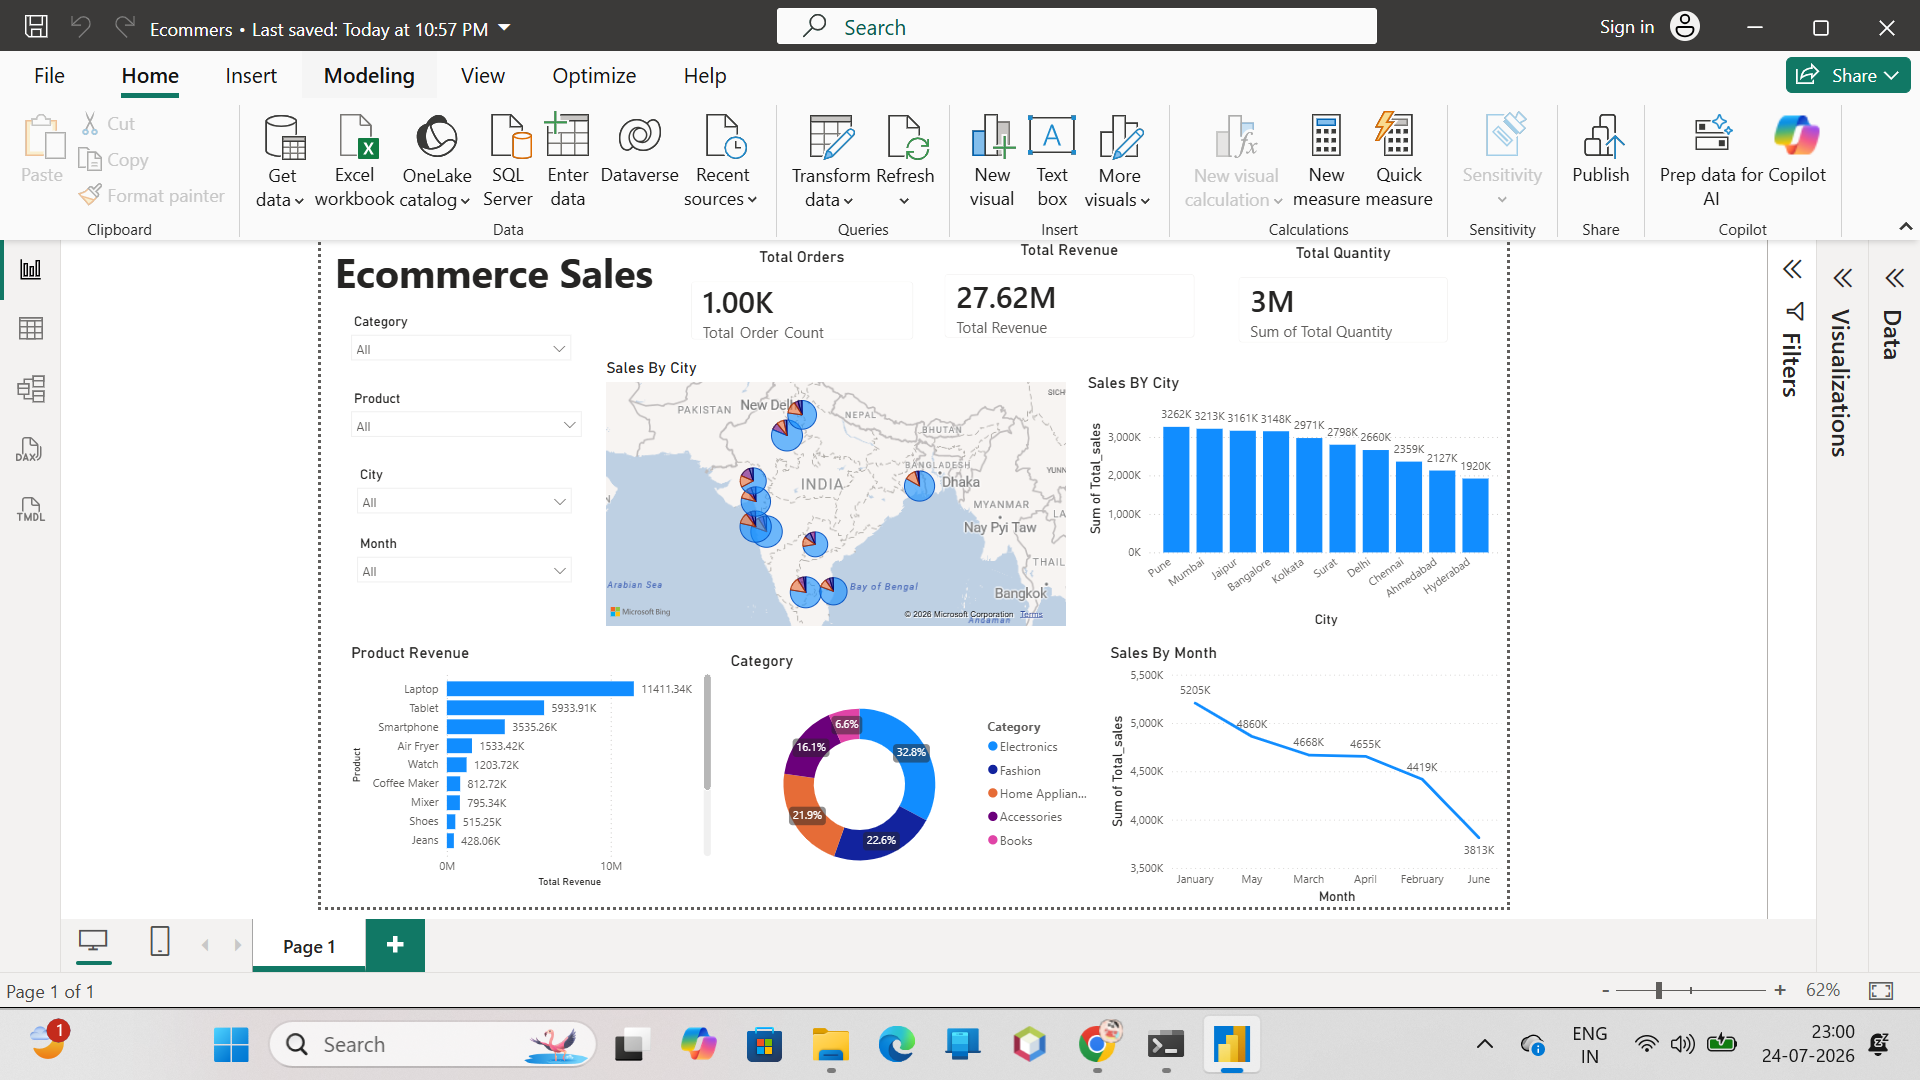

The page's visual inventory and layout, read from the dashboard file:
{"tool":"powerbi","page":{"name":"Page 1","canvas":[1280,720],"ordinal":0},"visuals":[{"type":"textbox","box":[9.4,0,372.3,73.7],"z":0},{"type":"barChart","title":"Product Revenue","fields":{"Category":["ecommers clean_sales.Product"],"Y":["ecommers clean_sales.Total Revenue"]},"box":[27.5,435.6,398.3,267.2],"z":1000},{"type":"columnChart","title":"Sales BY City","fields":{"Category":["ecommers clean_sales.City"],"Y":["Sum(ecommers clean_sales.Total_sales)"]},"box":[822.1,143.6,457.3,277.8],"z":2000},{"type":"donutChart","title":"Category","fields":{"Category":["ecommers clean_sales.Category"],"Y":["CountNonNull(ecommers clean_sales.Category)"]},"box":[436.5,444.1,406.3,268.3],"z":3000},{"type":"lineChart","title":"Sales By Month","fields":{"Category":["ecommers clean_sales.Month"],"Y":["Sum(ecommers clean_sales.Total_sales)"]},"box":[846.9,435.6,432.3,285],"z":4000},{"type":"cardVisual","title":"Total Orders","fields":{"Data":["ecommers clean_sales.Total_Order_Count"]},"box":[381.7,7.6,274,117.2],"z":5000},{"type":"cardVisual","title":"Total Revenue","fields":{"Data":["ecommers clean_sales.Total Revenue"]},"box":[655.8,0,304.3,122.8],"z":6000},{"type":"cardVisual","title":"Total Quantity","fields":{"Data":["Sum(ecommers clean_sales.Total Quantity)"]},"box":[973.2,3.8,260.8,124.7],"z":7000},{"type":"map","title":"Sales By City","fields":{"Category":["ecommers clean_sales.City"],"Size":["Sum(ecommers clean_sales.Total_sales)"],"Series":["ecommers clean_sales.Category"]},"box":[302.4,128.5,506.5,292.9],"z":8000},{"type":"slicer","fields":{"Values":["ecommers clean_sales.Category"]},"box":[22.7,73.7,257,83.2],"z":9000},{"type":"slicer","fields":{"Values":["ecommers clean_sales.Product"]},"box":[22.7,156.9,268.3,85],"z":10000},{"type":"slicer","fields":{"Values":["ecommers clean_sales.Month"]},"box":[28.3,313.7,251.3,81.3],"z":12000},{"type":"slicer","fields":{"Values":["ecommers clean_sales.City"]},"box":[28.3,240,251.3,73.7],"z":12001}]}

Visuals, with their boxes on the page's 1280x720 design canvas (x1, y1, x2, y2). These are canvas units, not pixel positions in the 1920x1080 screenshot, which may show the page scaled, cropped or inside an application window:
textbox: 9:0:382:74
"Product Revenue" barChart: 28:436:426:703
"Sales BY City" columnChart: 822:144:1279:421
"Category" donutChart: 436:444:843:712
"Sales By Month" lineChart: 847:436:1279:721
"Total Orders" cardVisual: 382:8:656:125
"Total Revenue" cardVisual: 656:0:960:123
"Total Quantity" cardVisual: 973:4:1234:128
"Sales By City" map: 302:128:809:421
slicer - ecommers clean_sales.Category: 23:74:280:157
slicer - ecommers clean_sales.Product: 23:157:291:242
slicer - ecommers clean_sales.Month: 28:314:280:395
slicer - ecommers clean_sales.City: 28:240:280:314
